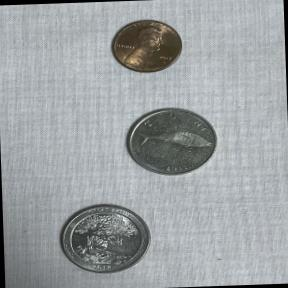Croatia-2Kune-B: (120, 103, 224, 180)
US-1cent-B: (102, 12, 188, 79)
US-25cent-B: (54, 200, 158, 278)
